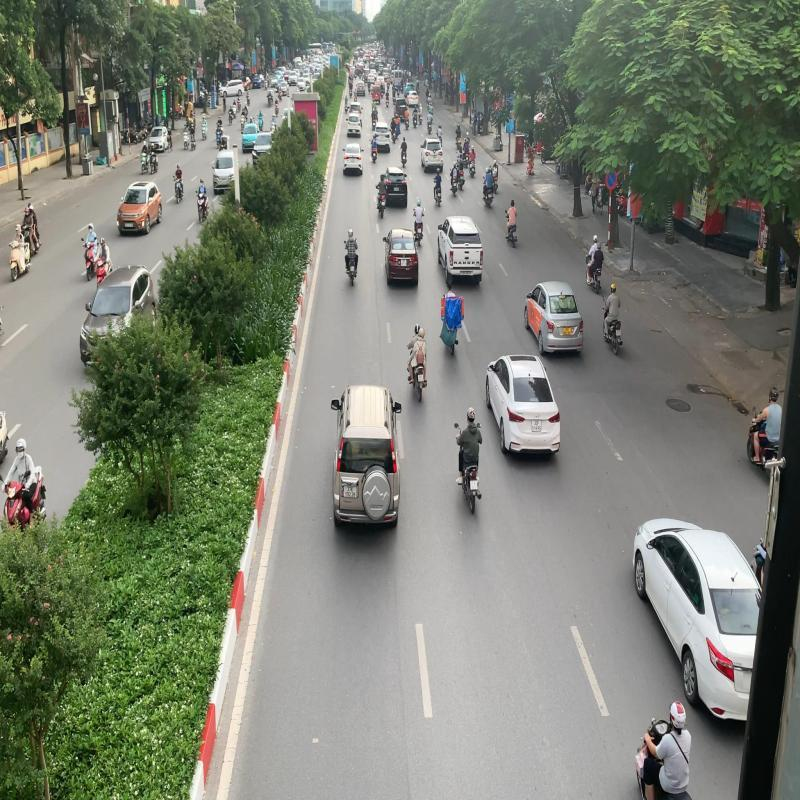helmet: (467, 408, 475, 423), (610, 283, 616, 293), (414, 324, 420, 333), (418, 328, 424, 337)
licenseplate: (470, 479, 478, 490), (418, 374, 424, 382), (616, 330, 622, 336)
motorcyclist: (454, 406, 483, 514), (406, 323, 428, 401), (602, 284, 623, 356), (586, 235, 604, 294)
nohelmet: (593, 235, 598, 244), (597, 243, 602, 250)
